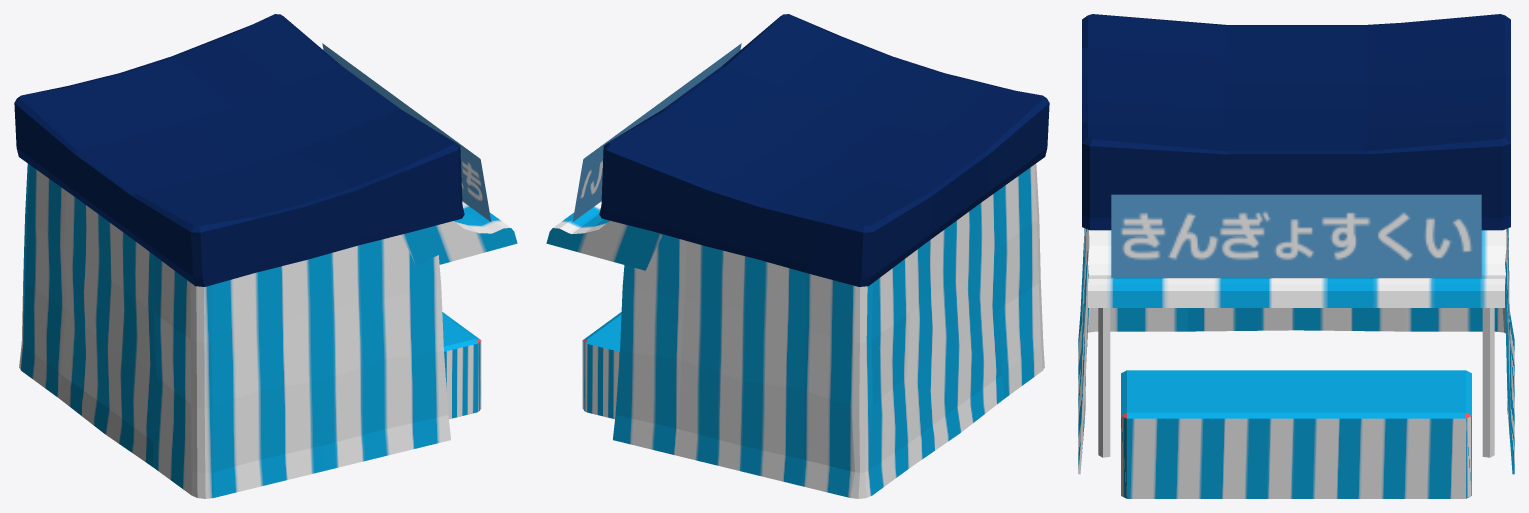
File: rowyataikingyosukui_1.fbx
3 renders of one model, left to right at view 1: azimuth 30°, elevation 25°; view 2: azimuth 150°, elevation 25°; view 3: azimuth 270°, elevation 25°, orthographic. The views are drawn at different scales.
Visible parts, largest first — view 1: 立方体, Cube, Cube.001, 立方体.001, 平面; view 2: 立方体, Cube, Cube.001, 立方体.001, 平面; view 3: Cube, 立方体.001, 平面, Cube.001, 立方体, 円柱.
Part boxes in pixels (x1,y1,x2,y2): 立方体: (19, 163, 450, 498); Cube: (14, 14, 464, 286); Cube.001: (401, 201, 517, 267); 立方体.001: (442, 312, 481, 419); 平面: (322, 43, 491, 221); 立方体: (613, 163, 1044, 498); Cube: (599, 14, 1049, 286); Cube.001: (546, 201, 662, 270); 立方体.001: (582, 312, 621, 419); 平面: (572, 43, 741, 221); Cube: (1082, 14, 1510, 230); 立方体.001: (1121, 370, 1471, 498); 平面: (1111, 194, 1481, 277); Cube.001: (1088, 229, 1506, 307); 立方体: (1078, 228, 1514, 474); 円柱: (1098, 308, 1494, 457).
Size of the model in its own units: 133 by 114 by 132.
2 materials, 2 textured.
